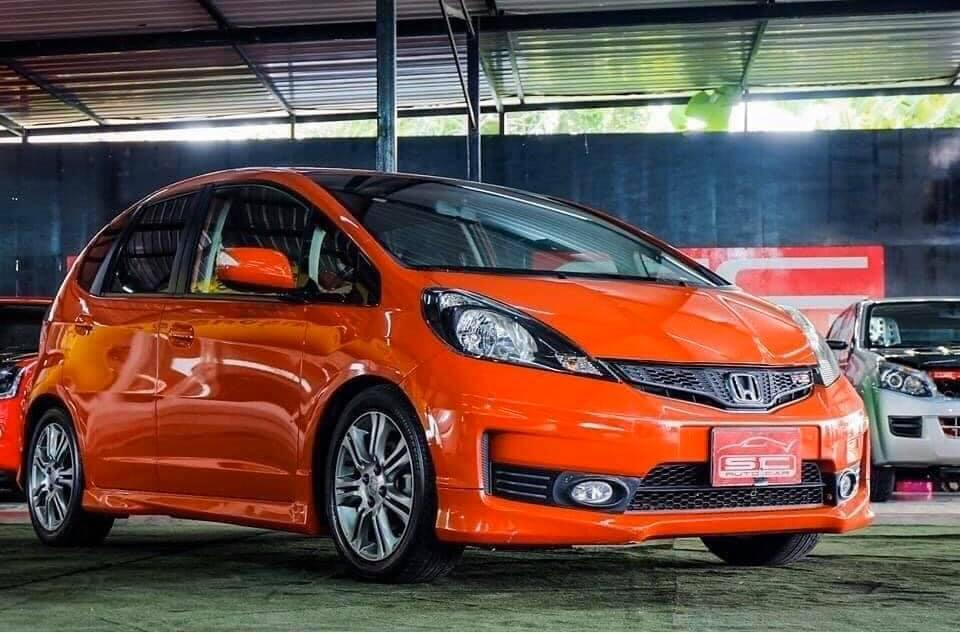Hatchback: (7, 149, 894, 587)
